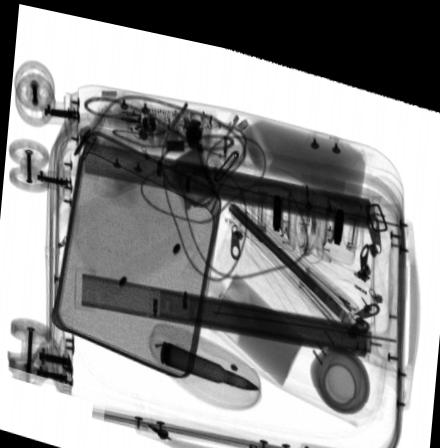Bullet: (159, 333, 260, 380)
